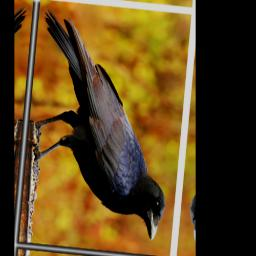Crow: (26, 9, 184, 243)
